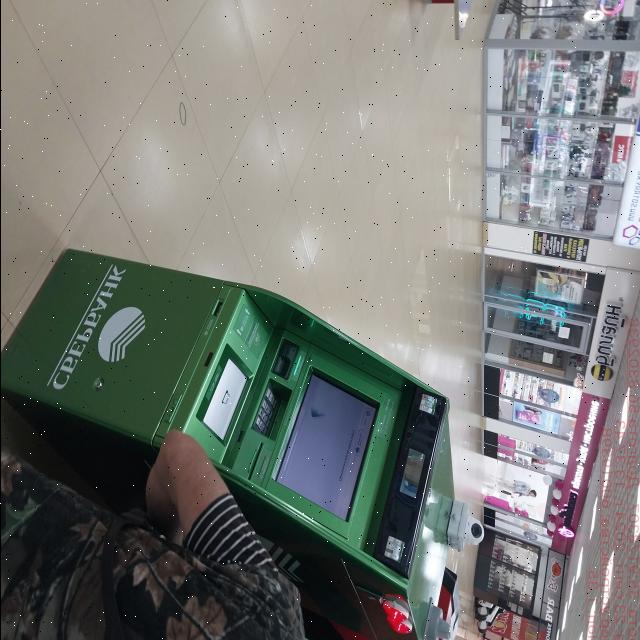bank: (0, 236, 458, 640)
